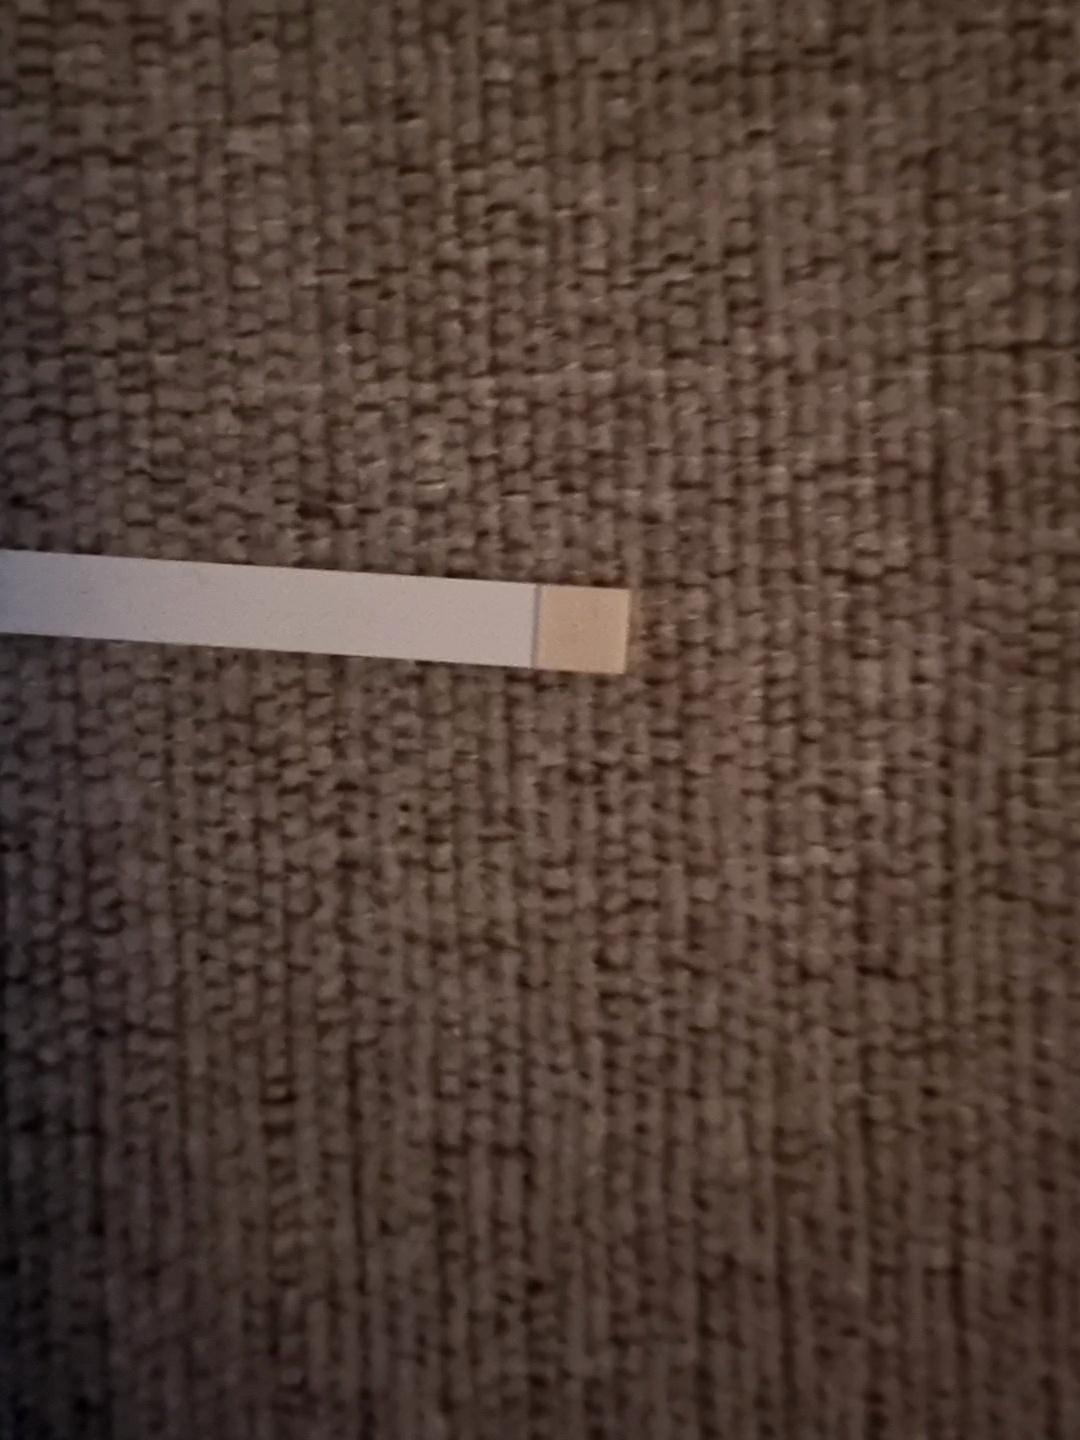keto-tip: (529, 575, 639, 684)
